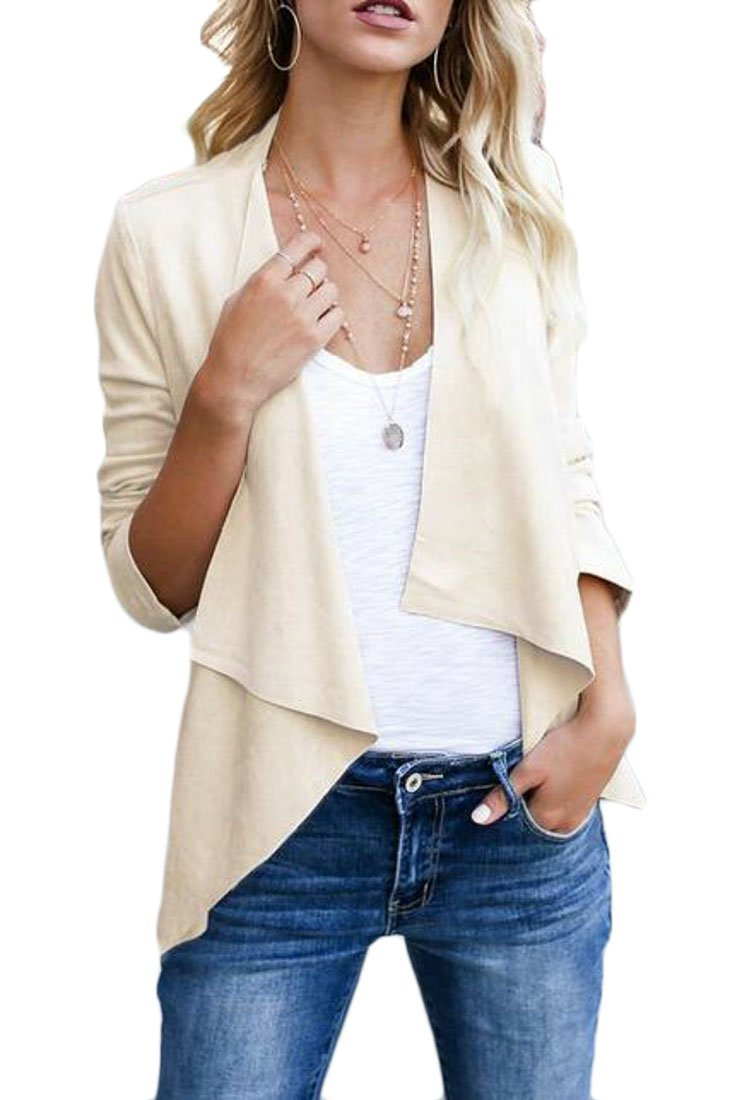F_W_suit jacket: (88, 129, 642, 839)
